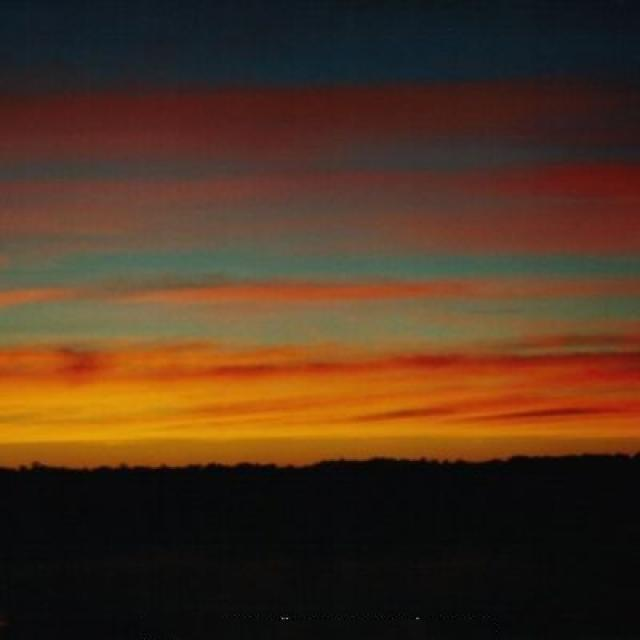As: (1, 60, 640, 437)
